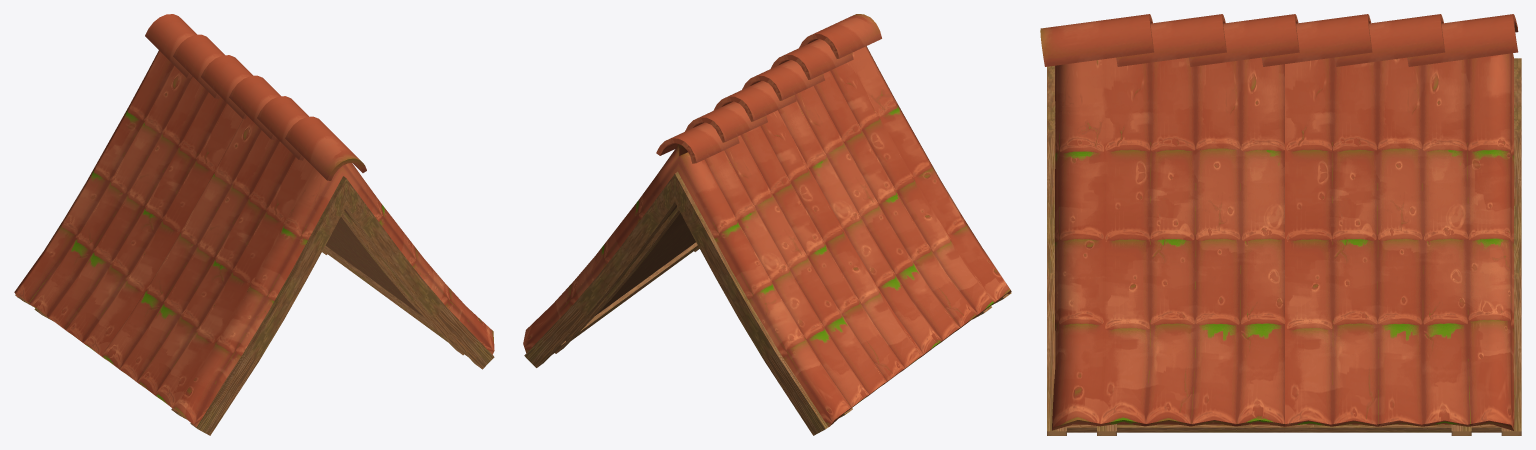
The model's file is Roof_RoundTiles_4x4.glb.
3 renders of one model, left to right at view 1: azimuth 30°, elevation 25°; view 2: azimuth 150°, elevation 25°; view 3: azimuth 270°, elevation 25°, orthographic. The views are drawn at different scales.
Visible parts, largest first — view 1: Roof_RoundTiles_4x4; view 2: Roof_RoundTiles_4x4; view 3: Roof_RoundTiles_4x4.
Boxes of the visible parts, <box> form: Roof_RoundTiles_4x4: <box>14,14,494,435</box>; Roof_RoundTiles_4x4: <box>523,14,1011,435</box>; Roof_RoundTiles_4x4: <box>1040,14,1521,435</box>.
Size of the model in its own units: 5.51 by 4.25 by 5.56.
Materials: 2 (2 with a texture image).
